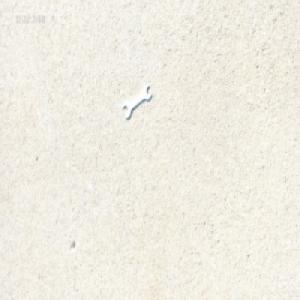Wrench: (122, 84, 152, 119)
